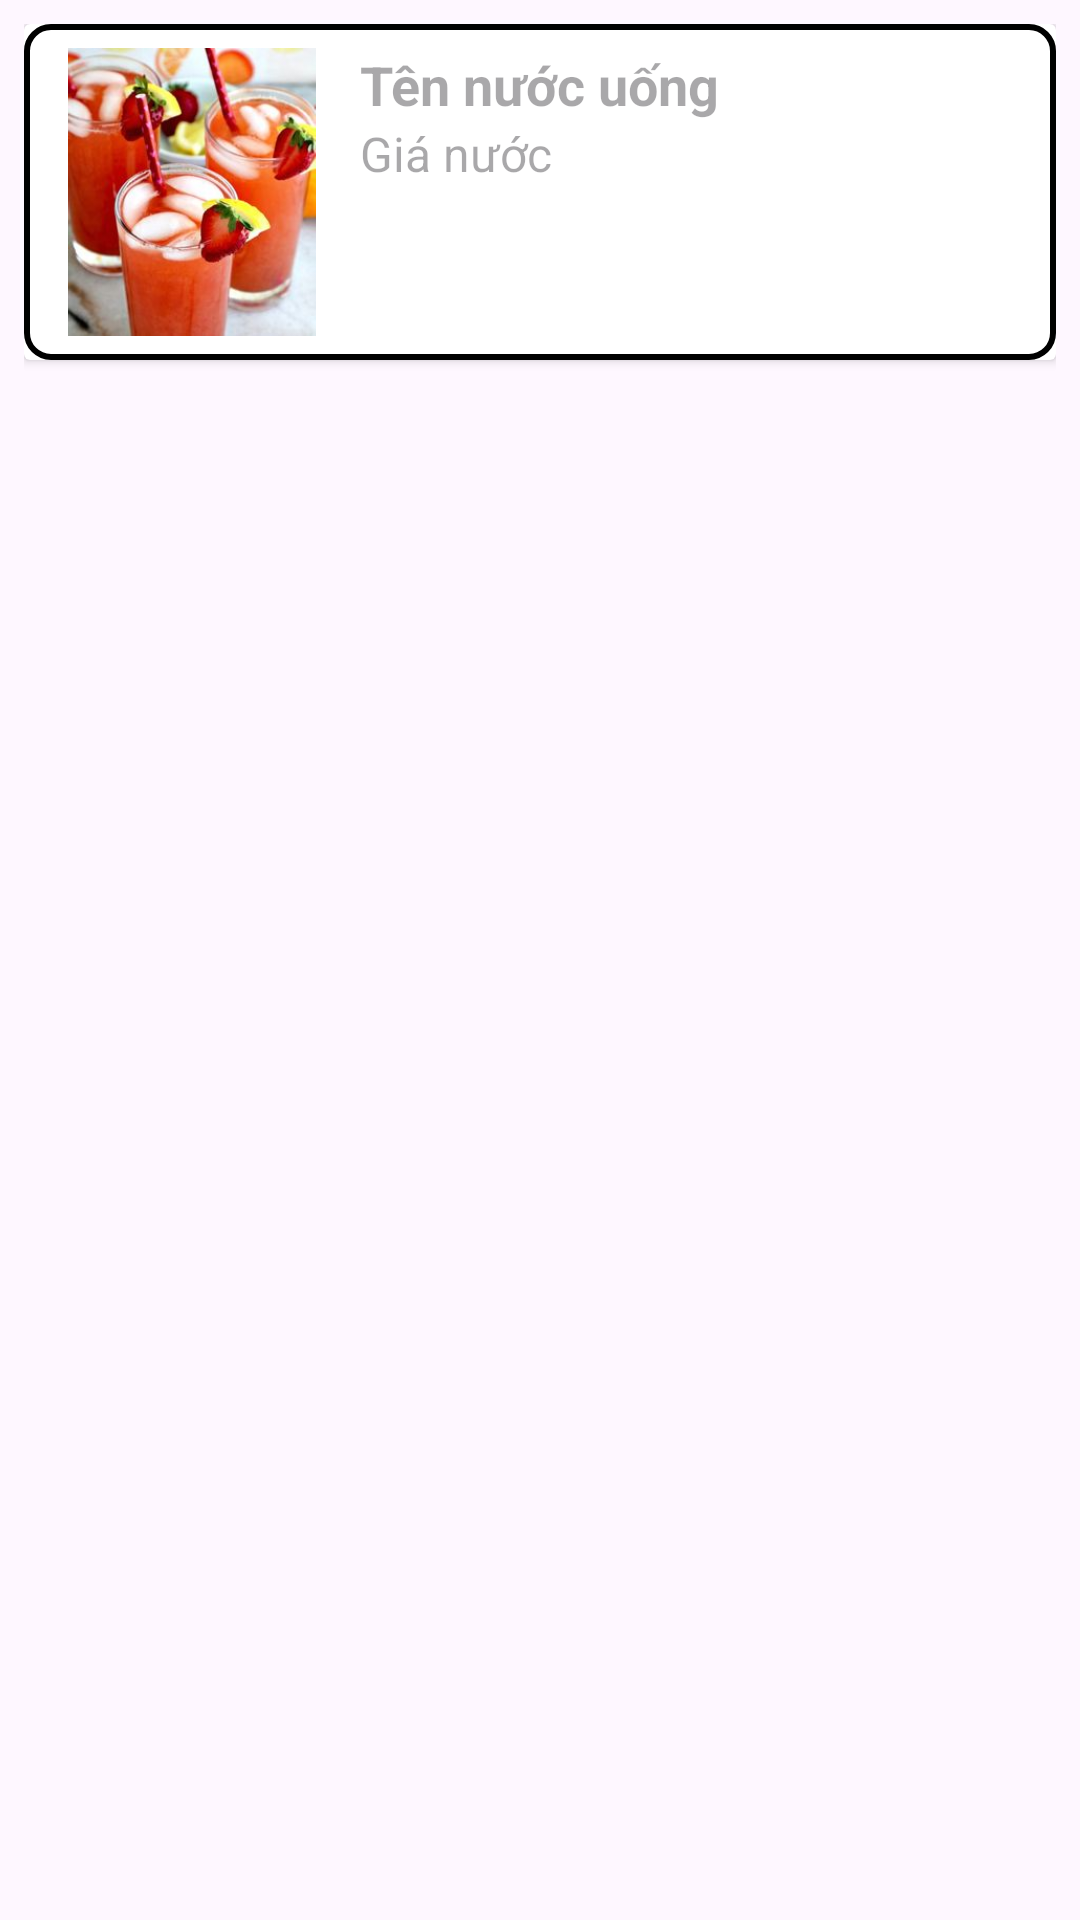

Screen size 1080px×1920px. Icon name, then its center in pixels as (x,y):
tradau: (192,192)
